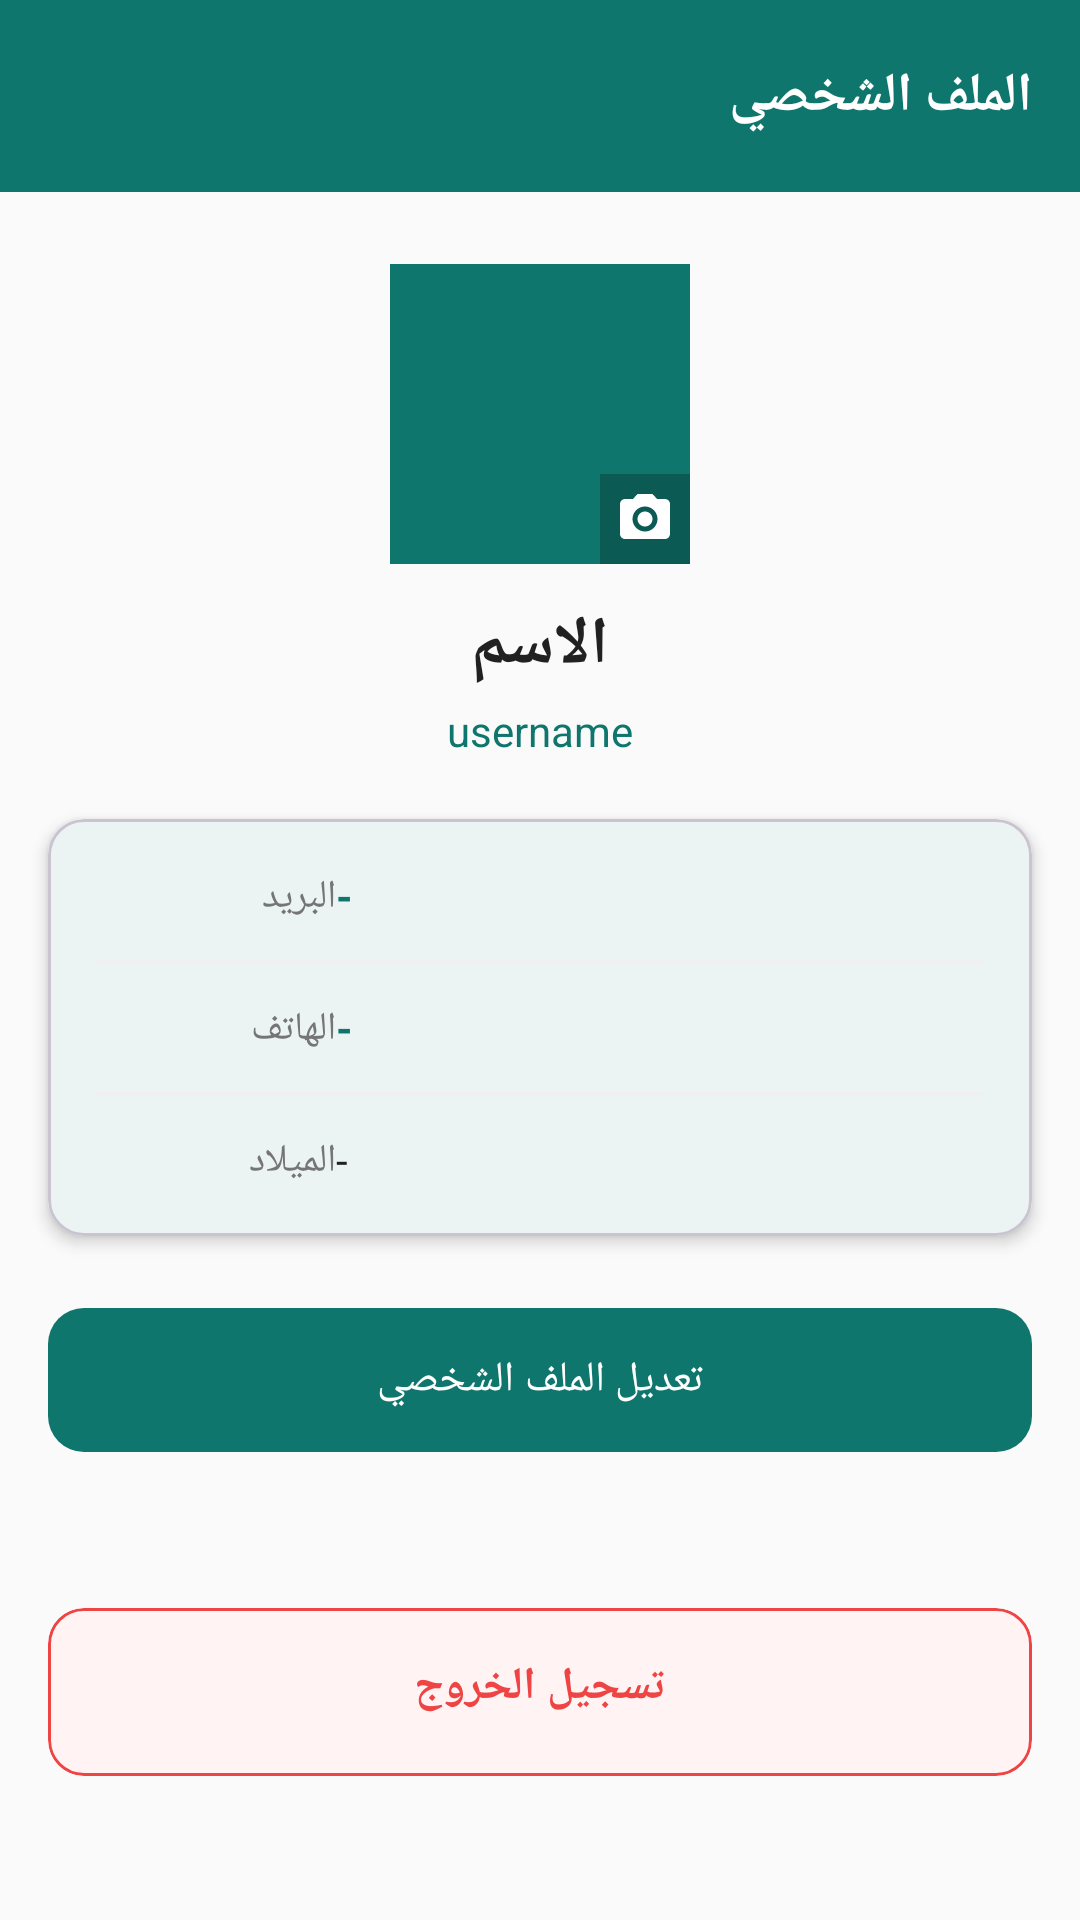

Icon click points for this 1080px x 1920px phone screenshot, format point (x, y):
تغيير الصورة: point (645, 519)
